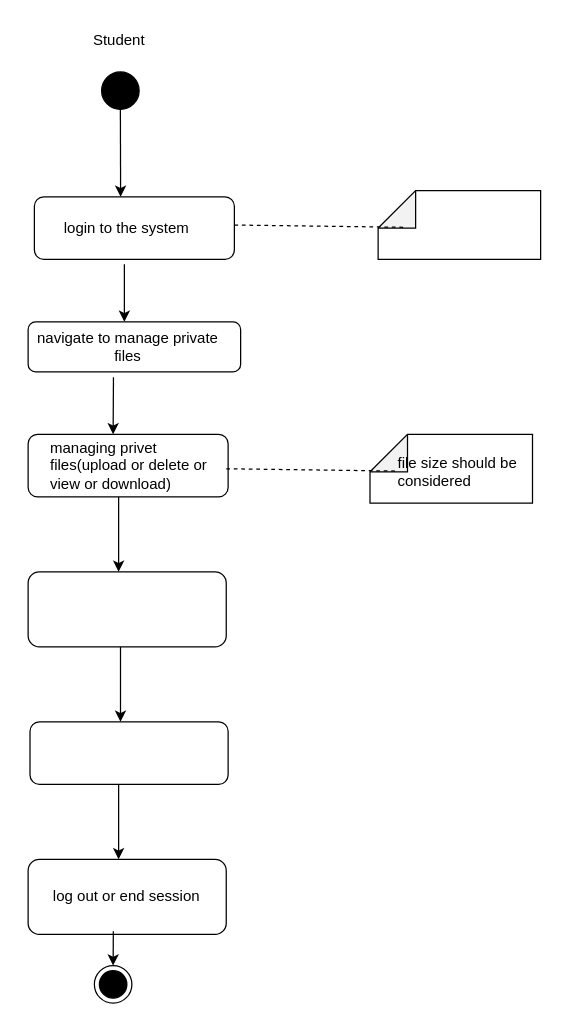
Some shapes in this 563 by 1025 pixel diagram are drawn without their labels. Here are the shapes that lost their labels. From the top down, the centre of each, then its label:
At point 459,224: "verify authentication".
At point 126,609: "save changes to the database".
At point 128,752: "confirm the action".
